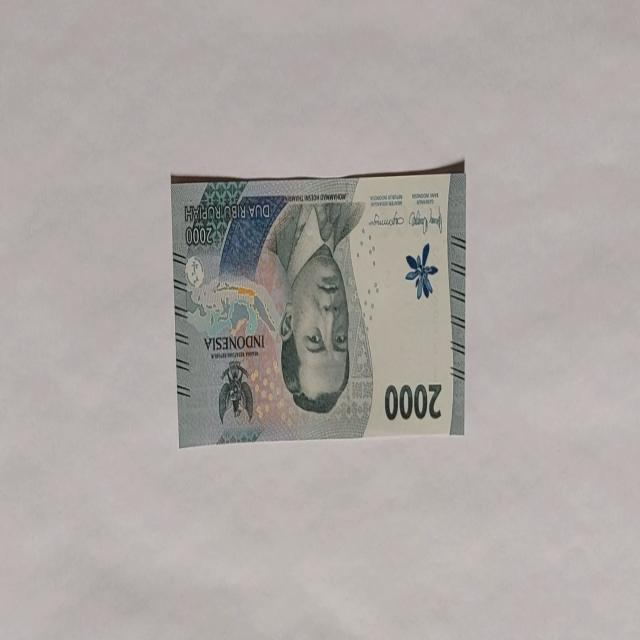dua ribu rupiah: (170, 167, 466, 446), (261, 200, 367, 420)
